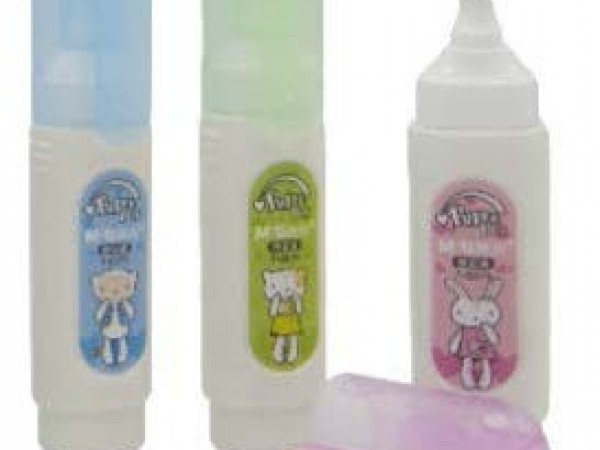Correction_fluid: (403, 1, 556, 441), (191, 1, 333, 450), (26, 1, 160, 450)
